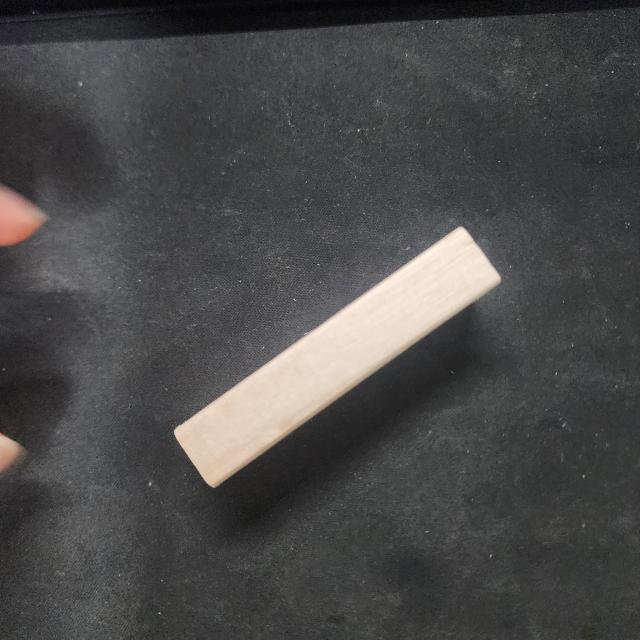wood: (168, 224, 502, 490)
